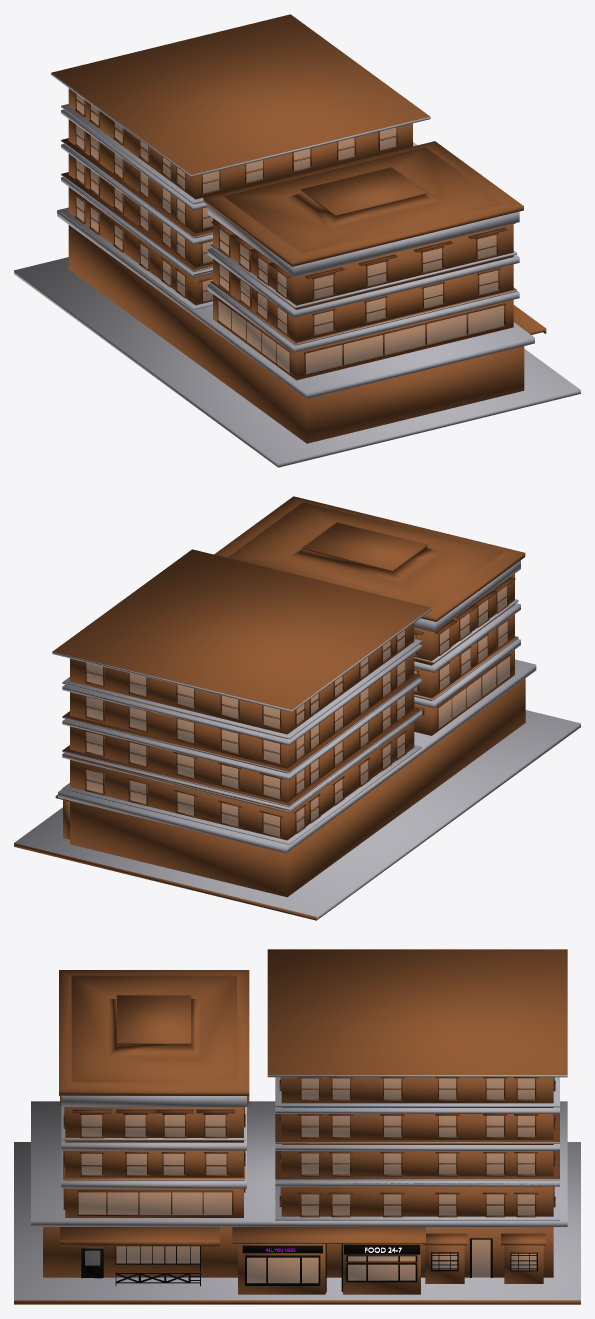
Rendered from apartment1.glb.
3 views of the same model, one above another, from view 1: azimuth 30°, elevation 25°; view 2: azimuth 150°, elevation 25°; view 3: azimuth 270°, elevation 25° (orthographic). The views are drawn at different scales.
Visible parts, largest first — view 1: Large apartment Building; view 2: Large apartment Building; view 3: Large apartment Building.
Boxes of the visible parts, x1=… form: Large apartment Building: x1=14, y1=14, x2=580, y2=467; Large apartment Building: x1=14, y1=496, x2=580, y2=920; Large apartment Building: x1=14, y1=949, x2=580, y2=1304.
Bounding box in the file's own units: 86.4 × 54.14 × 131.
